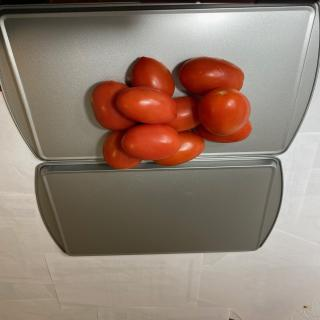Chilli: (90, 55, 252, 169)
Tomato: (179, 56, 244, 96), (198, 87, 251, 136), (90, 80, 138, 131), (116, 86, 178, 124), (121, 124, 181, 160), (130, 56, 175, 97), (153, 131, 205, 166), (102, 130, 142, 170), (164, 96, 202, 132), (196, 119, 252, 143)
